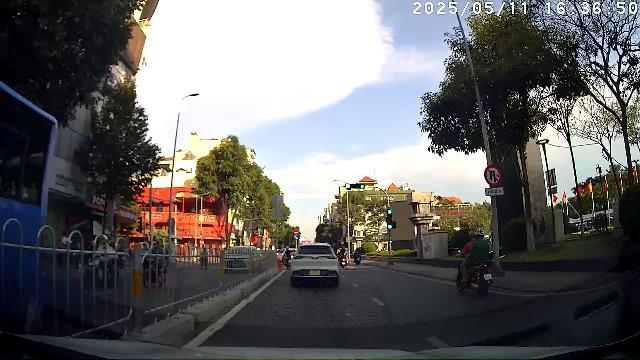124b-cam-oto-quay-dau-xe: (484, 165, 502, 186)
